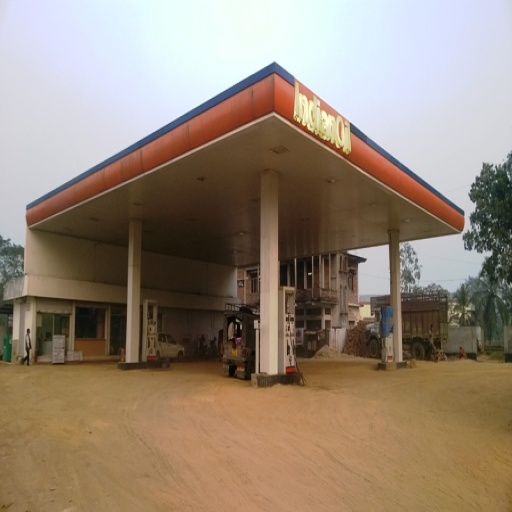roof: (19, 58, 465, 273)
